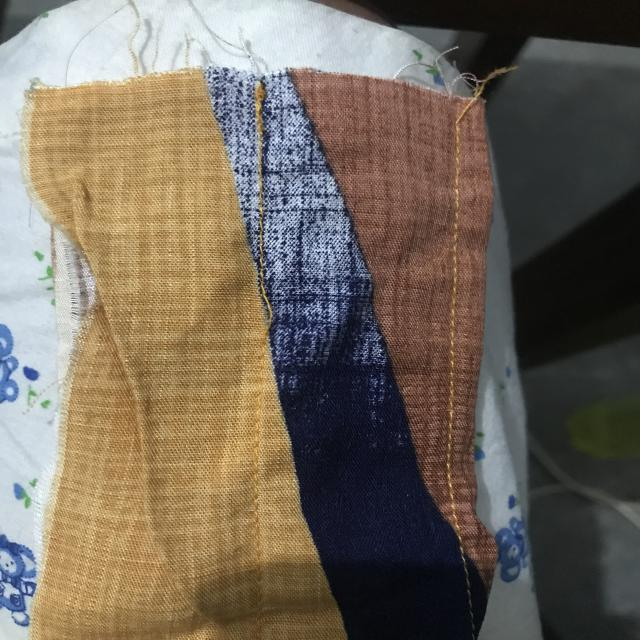skip: (247, 281, 280, 355)
